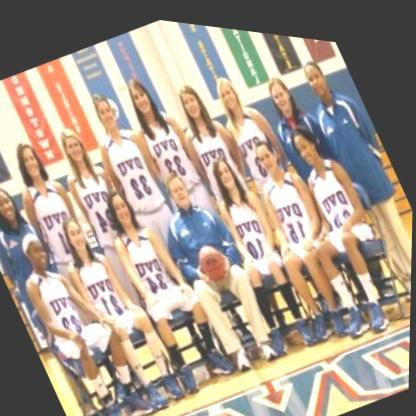basketball: (192, 230, 237, 283)
